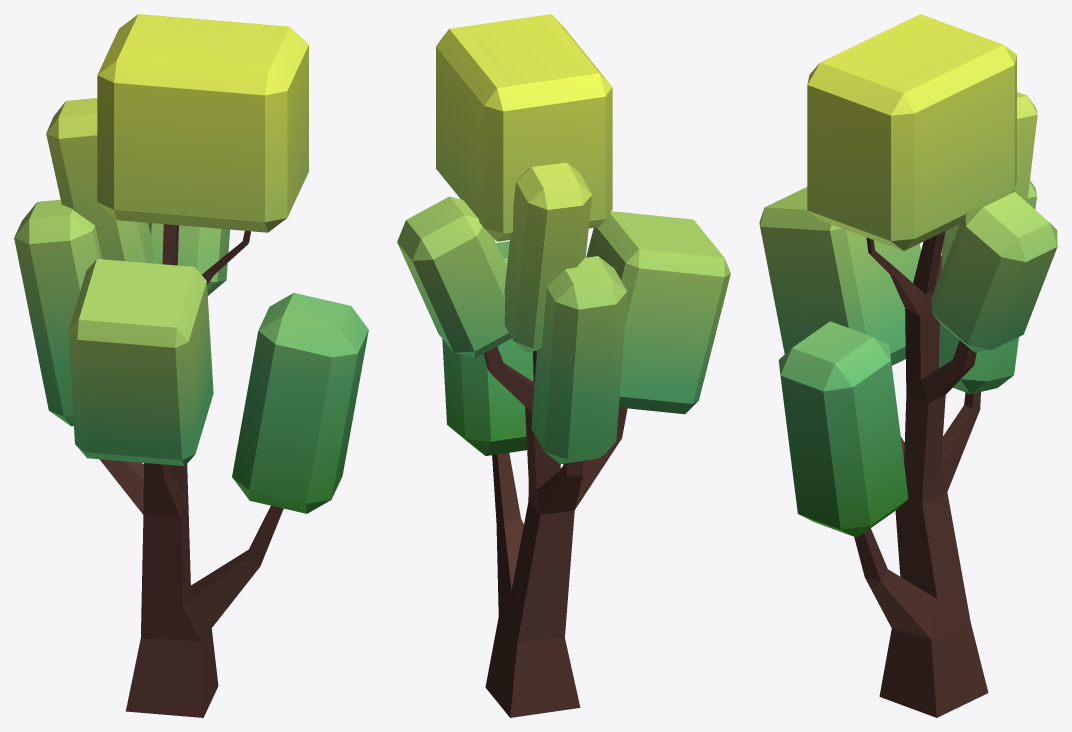
File: Tree4.glb
3 views of the same model, side by side, from view 1: azimuth 30°, elevation 25°; view 2: azimuth 150°, elevation 25°; view 3: azimuth 270°, elevation 25° (orthographic). The views are drawn at different scales.
Parts seen in each view (by area): view 1: fruit cube tree; view 2: fruit cube tree; view 3: fruit cube tree.
Boxes of the visible parts, x1,y1,x2,y2 form: fruit cube tree: (14, 14, 368, 717); fruit cube tree: (397, 14, 730, 717); fruit cube tree: (759, 14, 1057, 717).
Size of the model in its own units: 2.59 by 5.58 by 2.31.
2 materials, 1 textured.
